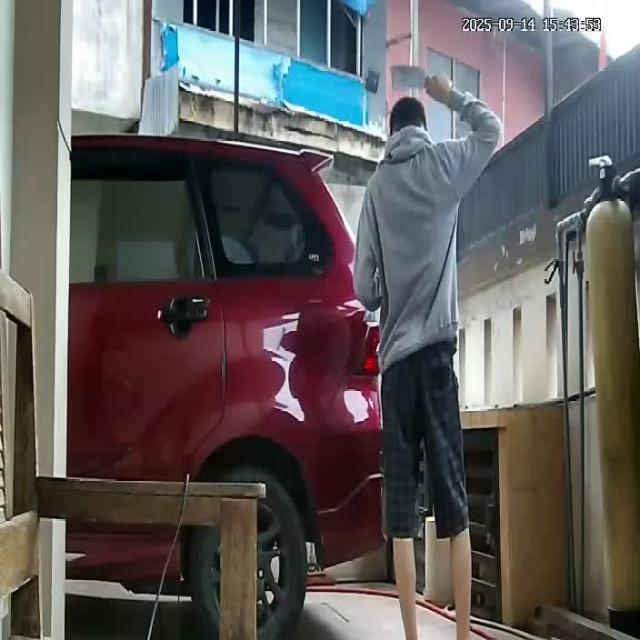senjata_tajam: (386, 65, 429, 92)
